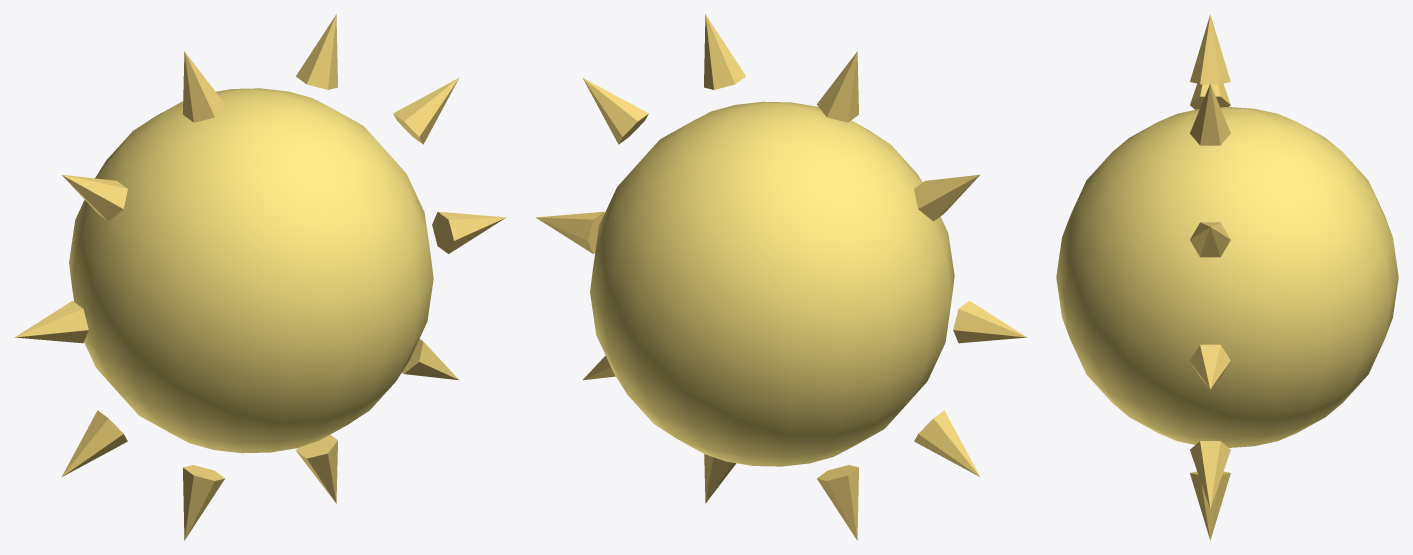
Rendered from Desert_Sun1.fbx.
The picture shows the model from 3 angles, left to right: view 1: azimuth 30°, elevation 25°; view 2: azimuth 150°, elevation 25°; view 3: azimuth 270°, elevation 25°; orthographic projection. The views are drawn at different scales.
Parts seen in each view (by area): view 1: Desert_Sun1; view 2: Desert_Sun1; view 3: Desert_Sun1.
Part boxes in pixels (x1=…): Desert_Sun1: x1=14, y1=14, x2=506, y2=540; Desert_Sun1: x1=535, y1=14, x2=1027, y2=540; Desert_Sun1: x1=1056, y1=14, x2=1398, y2=540.
Size of the model in its own units: 6.2 by 5.9 by 4.
